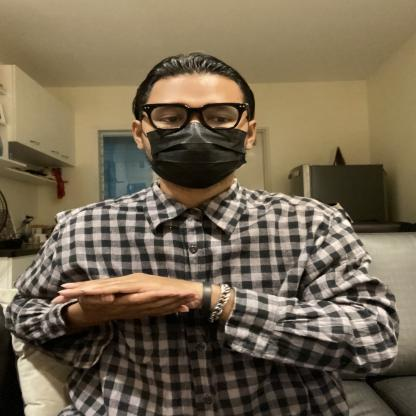Love: (15, 251, 306, 354)
